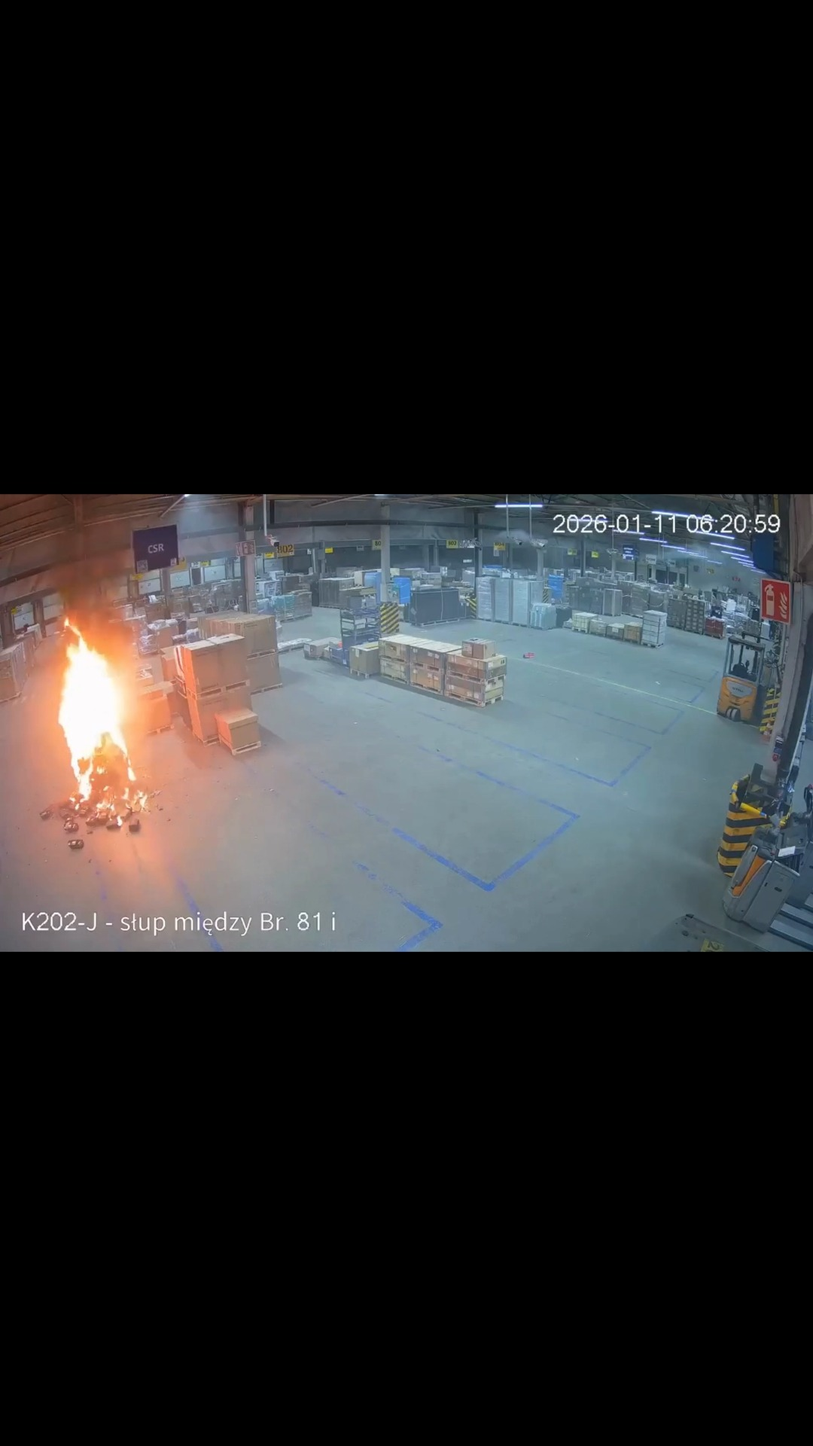fire: (57, 610, 153, 828)
smoke: (38, 514, 158, 647)
